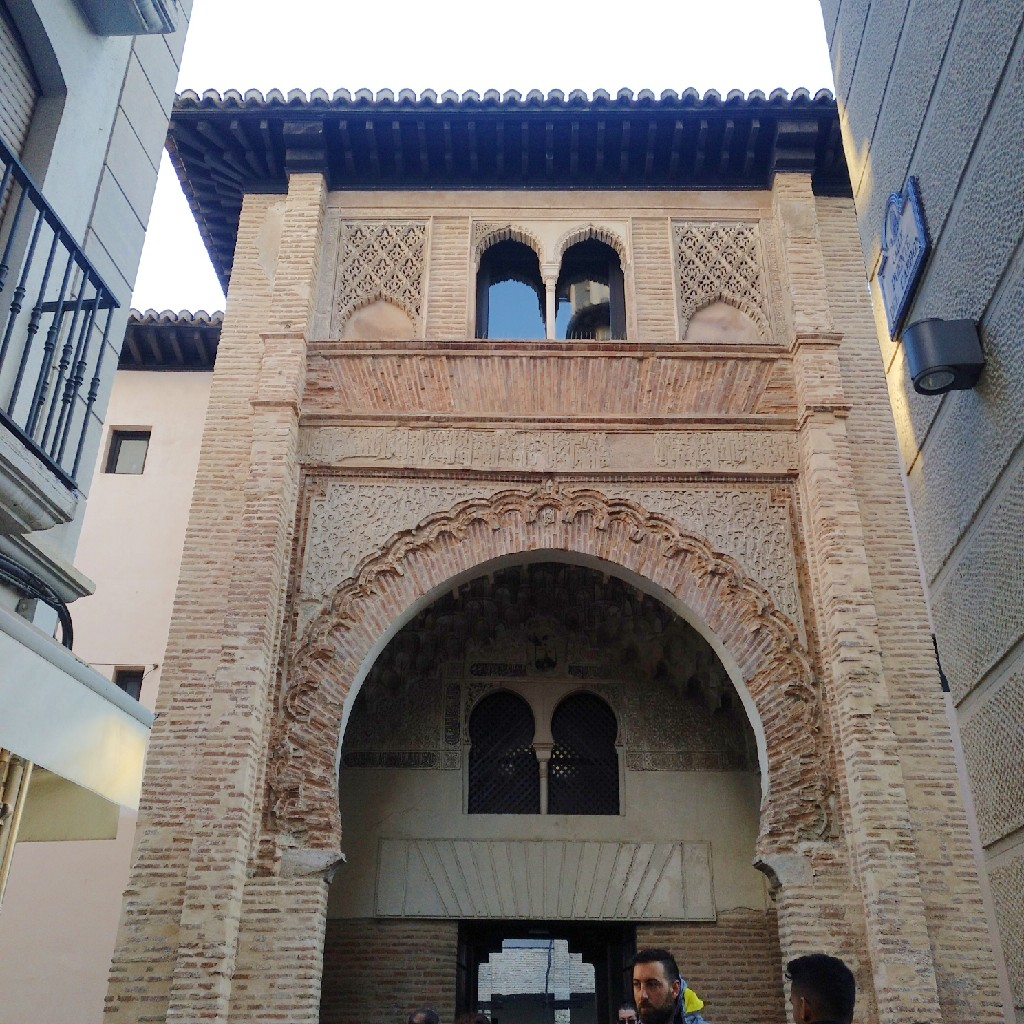arco-herradura: (306, 523, 809, 886), (460, 680, 541, 754), (545, 680, 623, 750)
dintel-adovelado: (299, 342, 778, 428), (407, 830, 678, 919)
